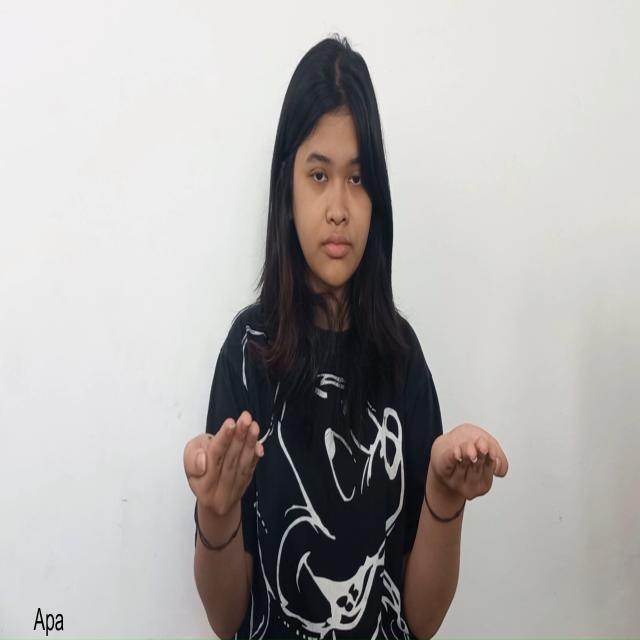Apa -BISINDO-: (182, 409, 509, 523)
